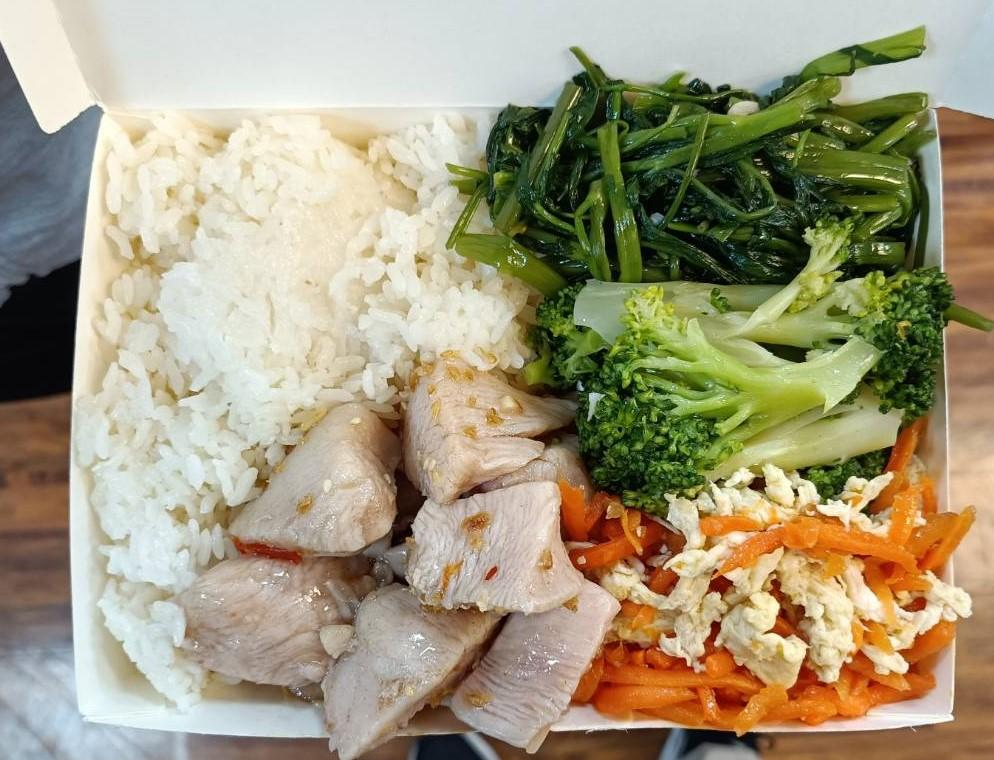big grilled chicken leg: (47, 84, 974, 749)
big herbal chicken leg: (87, 115, 538, 711)
braised fish fillet: (482, 19, 943, 282), (574, 474, 957, 729), (529, 270, 951, 494)
braised pork: (189, 348, 615, 752)
